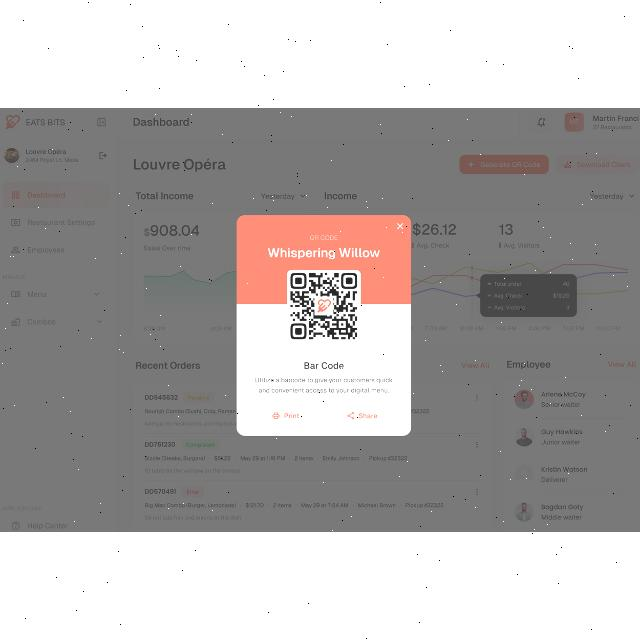QLabel: (268, 248, 380, 260), (255, 378, 392, 384), (259, 388, 389, 394), (304, 362, 344, 370), (358, 413, 378, 419), (310, 236, 338, 240), (284, 413, 300, 419)
QQRCode: (288, 270, 360, 348)
VBtn: (328, 407, 396, 425), (252, 408, 320, 426)
VDialog: (235, 216, 412, 438)
VIcon: (396, 222, 404, 230), (347, 412, 355, 420), (272, 413, 280, 419)
